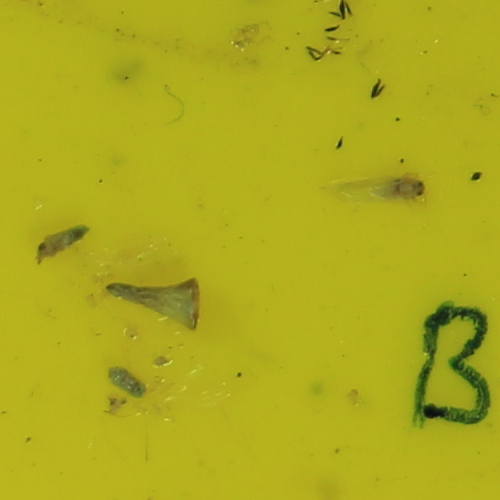Glycaspis: (35, 223, 93, 268)
